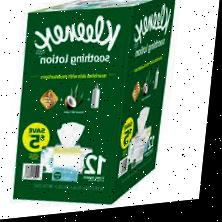cube: (14, 0, 174, 214)
